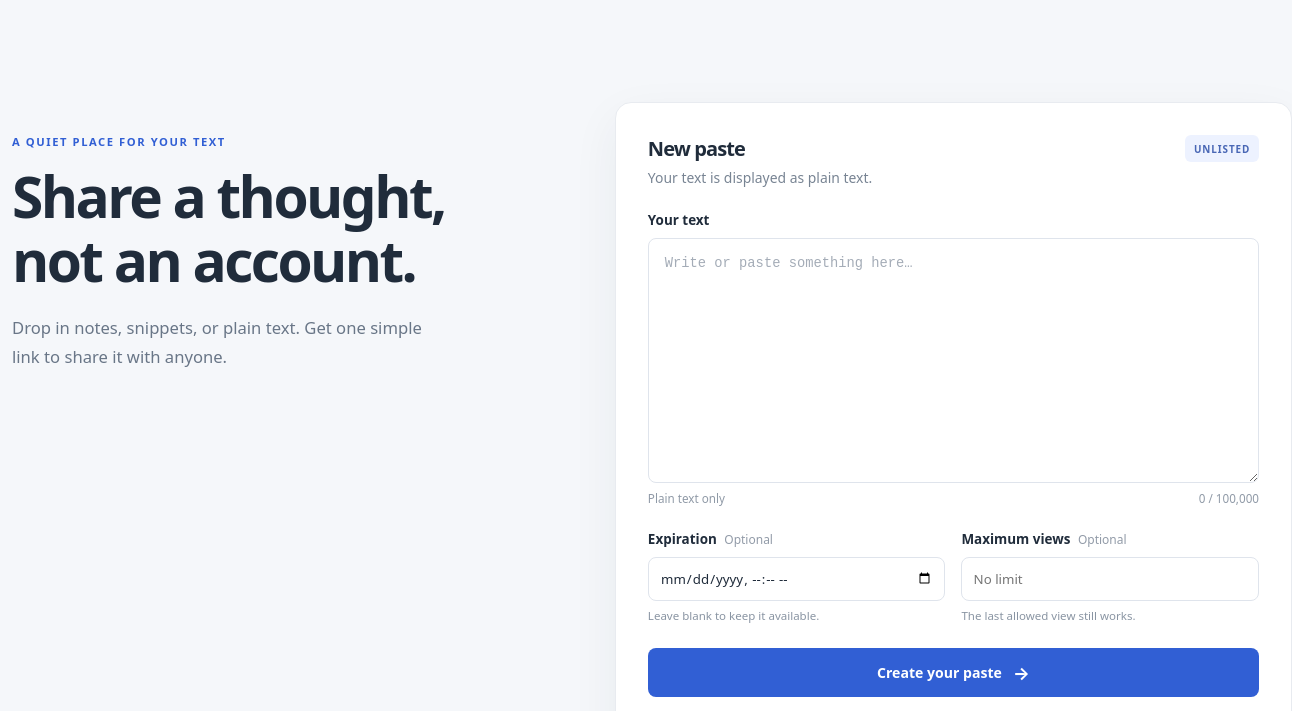
Test case: create paste flow › rejects non-positive view limits before sending a request
Type "Hello" into the text box labelled "Your text" at (953, 360), box x1=648 y1=238 x2=1259 y2=483
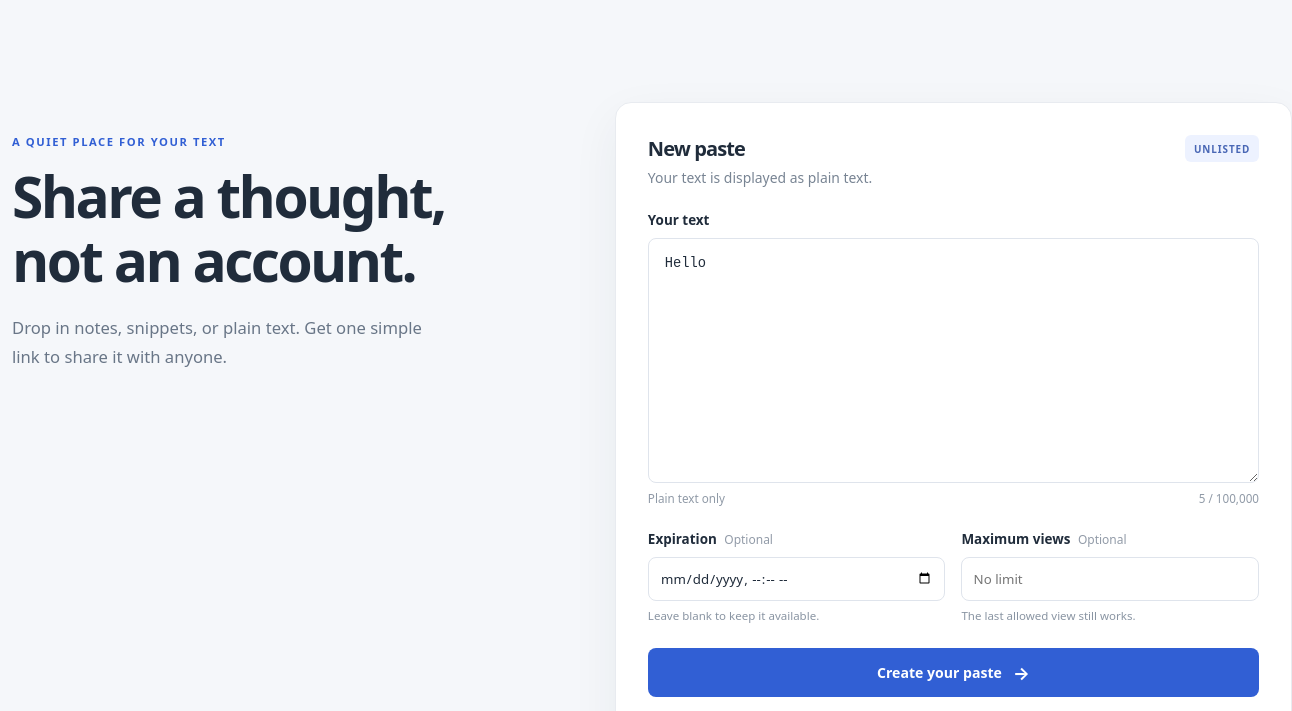
Type "0" into the number field labelled "Maximum views Optional" at (1110, 579), box x1=961 y1=557 x2=1259 y2=601
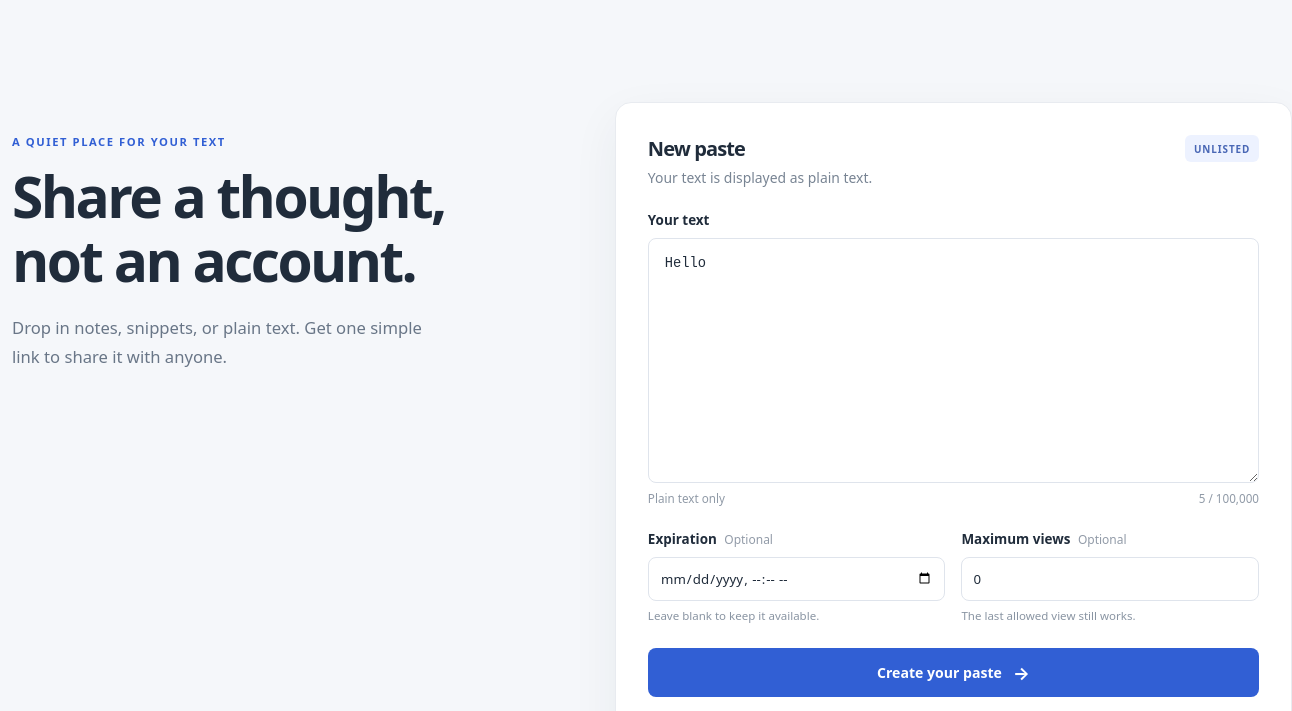
Click the button "Create your paste →" at (953, 673), box x1=648 y1=648 x2=1259 y2=697
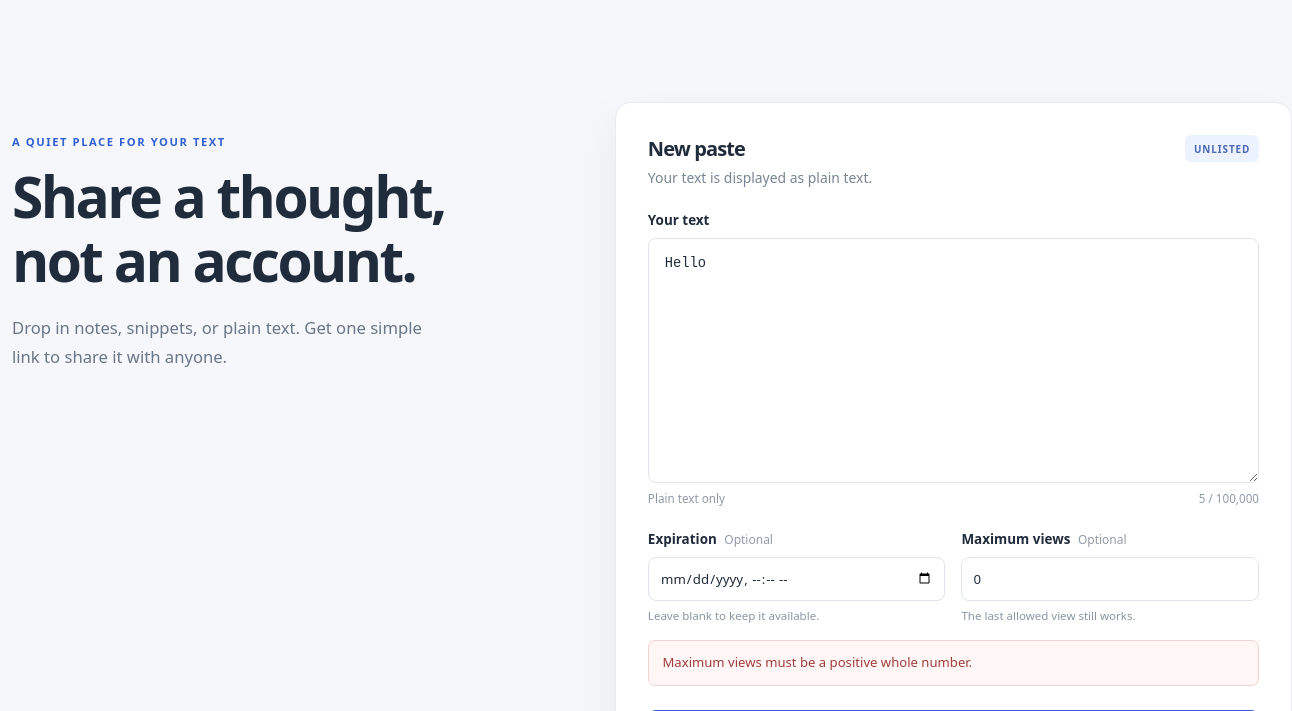
Result: the message shows "positive whole number" at x1=662 y1=654 x2=972 y2=672
